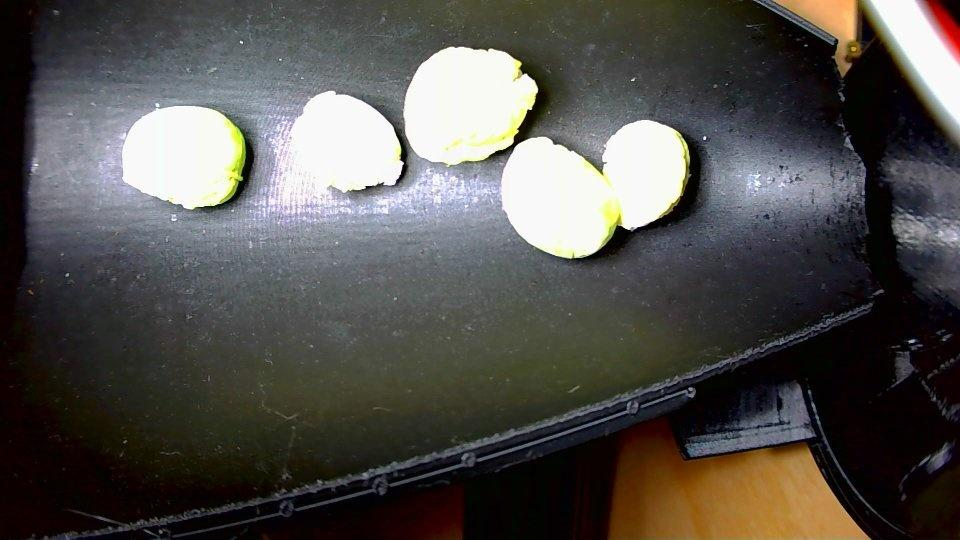berry: (404, 47, 537, 164), (502, 137, 620, 258), (122, 106, 246, 208), (291, 91, 401, 191), (602, 120, 689, 230)
